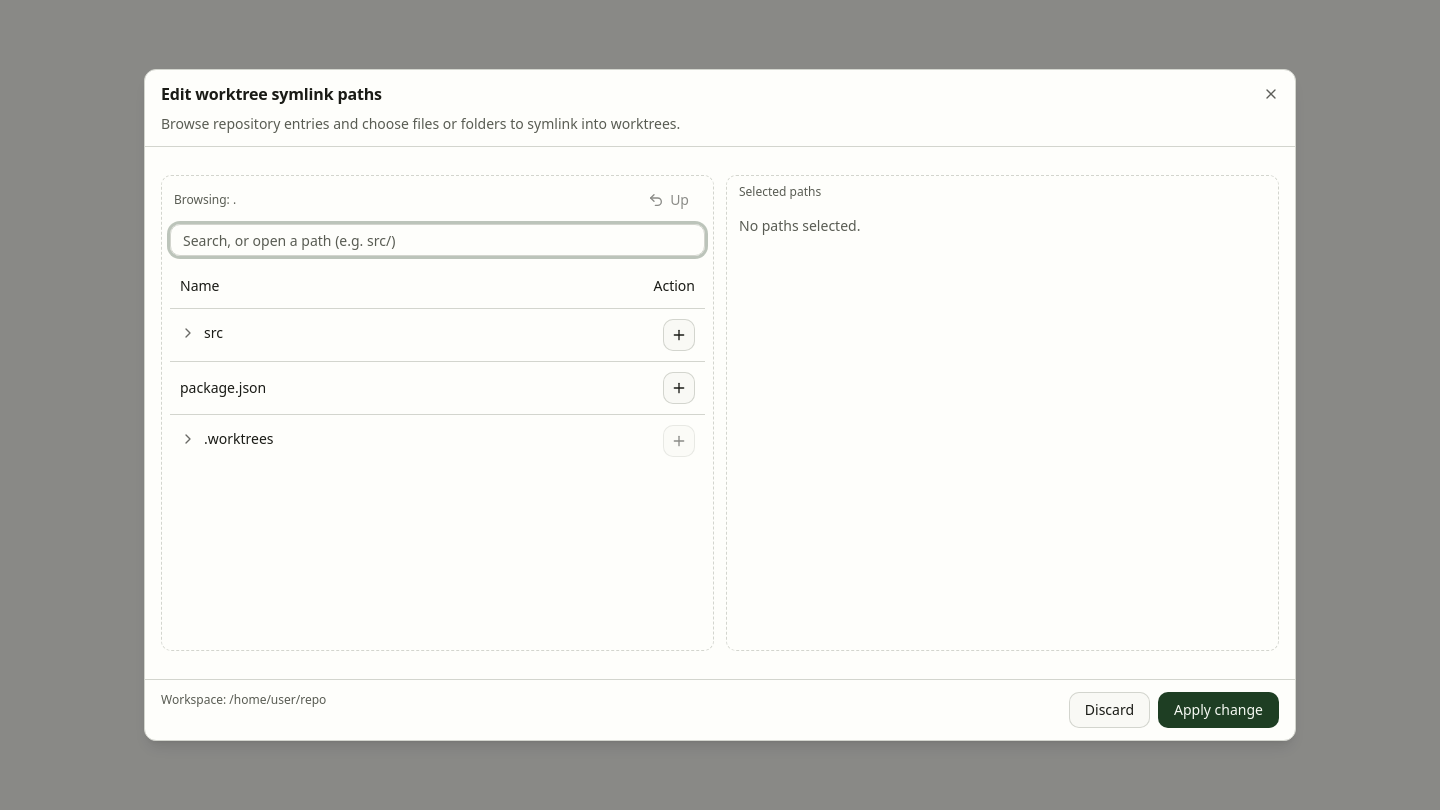
WorktreeSymlinkPathsModal › adds an entry to draft paths on add button click
The width and height of the screenshot is (1440, 810).
Check: the text "package.json" is shown, box [180,378,266,398]
Click the 3rd button named "add package.json" at (679, 388), box [663,372,695,404]
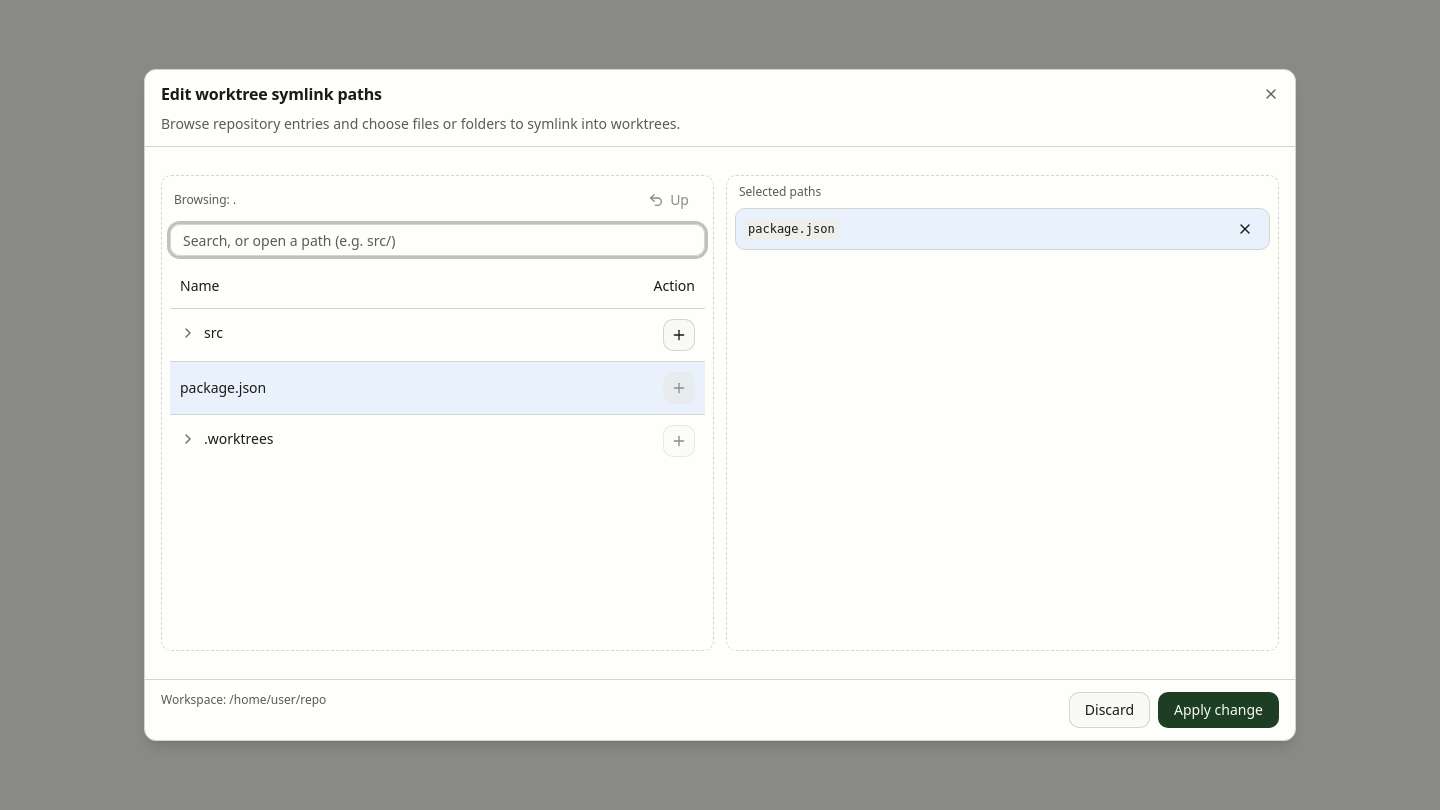
Check: the text "No paths selected." is gone
